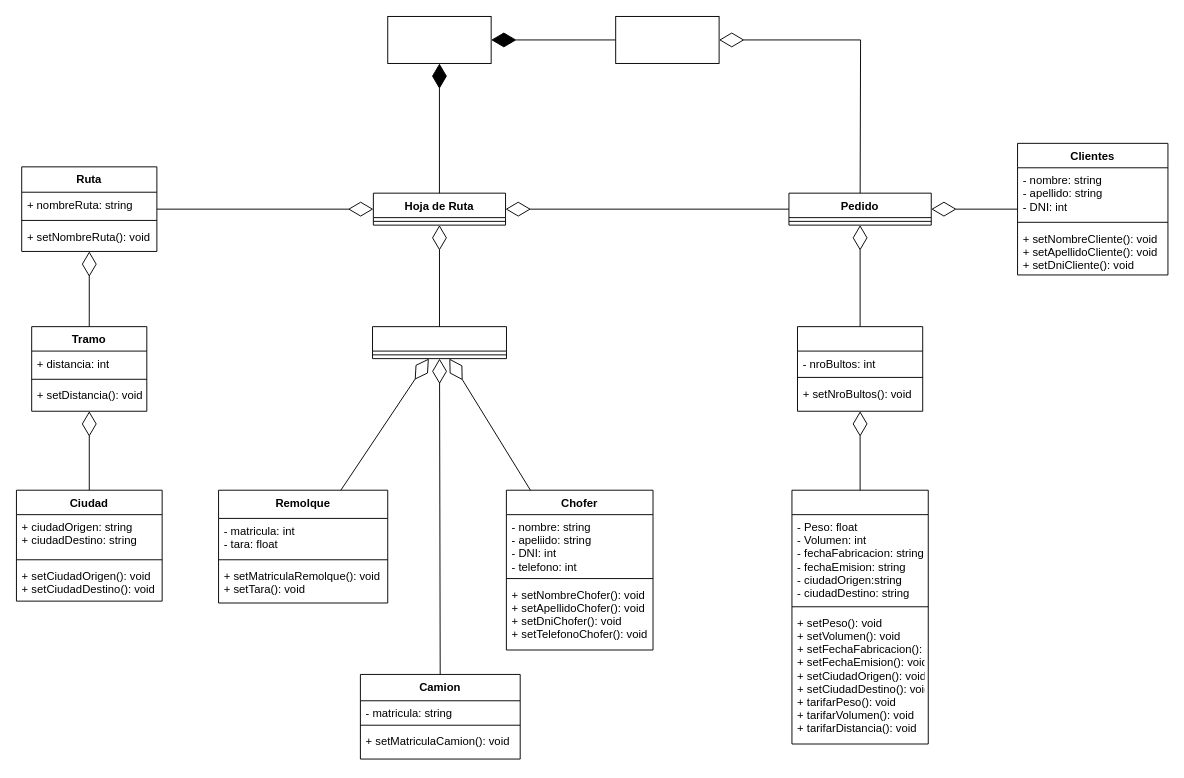
Some shapes in this 1184 by 778 pixel diagram are drawn without their labels. The shapes that lost their labels are listed below. From the top down, each one's box as (x1, y1, x2, y2) in pixels, then its label:
(387, 16, 491, 63): Empresa
(615, 16, 719, 63): Caja
(372, 326, 506, 359): Transporte
(797, 326, 923, 411): Item
(791, 489, 928, 744): Bulto
